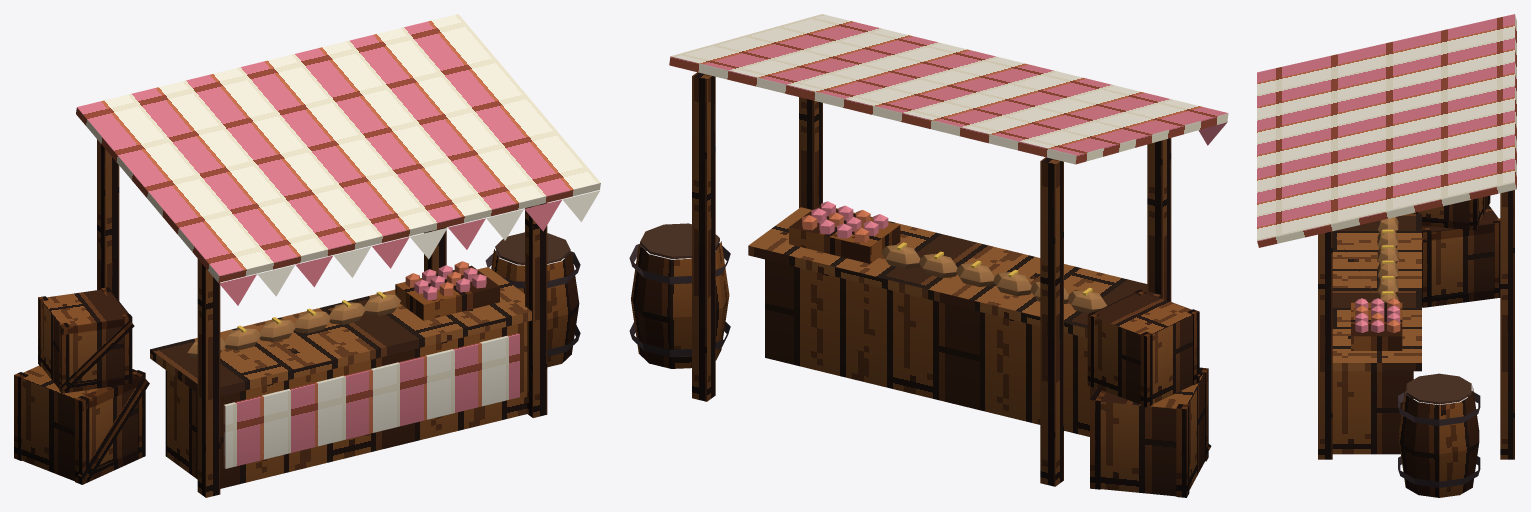
The model's file is market_stall.glb.
3 views of the same model, side by side, from view 1: azimuth 30°, elevation 25°; view 2: azimuth 150°, elevation 25°; view 3: azimuth 270°, elevation 25° (orthographic). The views are drawn at different scales.
Parts seen in each view (by area): view 1: market_stall; view 2: market_stall; view 3: market_stall.
Part boxes in pixels (bbox=[...]): market_stall: bbox=[14, 14, 600, 497]; market_stall: bbox=[629, 14, 1228, 497]; market_stall: bbox=[1257, 14, 1516, 497].
Bounding box in the file's own units: 4.94 × 2.77 × 2.28.
3 materials, 2 textured.
